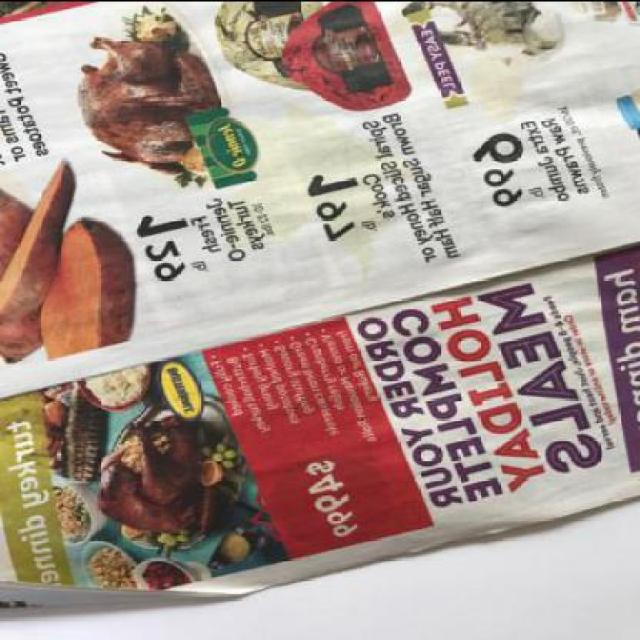paper: (0, 1, 638, 607)
